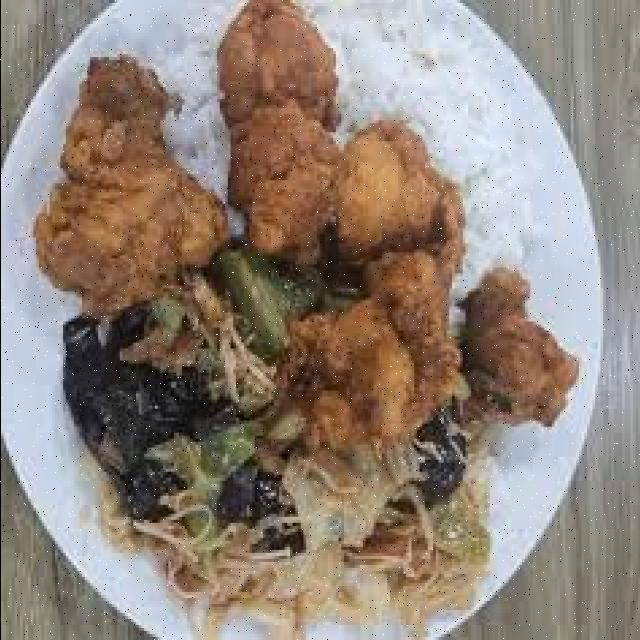Chicken: (219, 0, 578, 451), (38, 60, 227, 315)
Green veg: (65, 249, 489, 637)
Rice: (302, 0, 572, 297), (92, 0, 240, 192)
